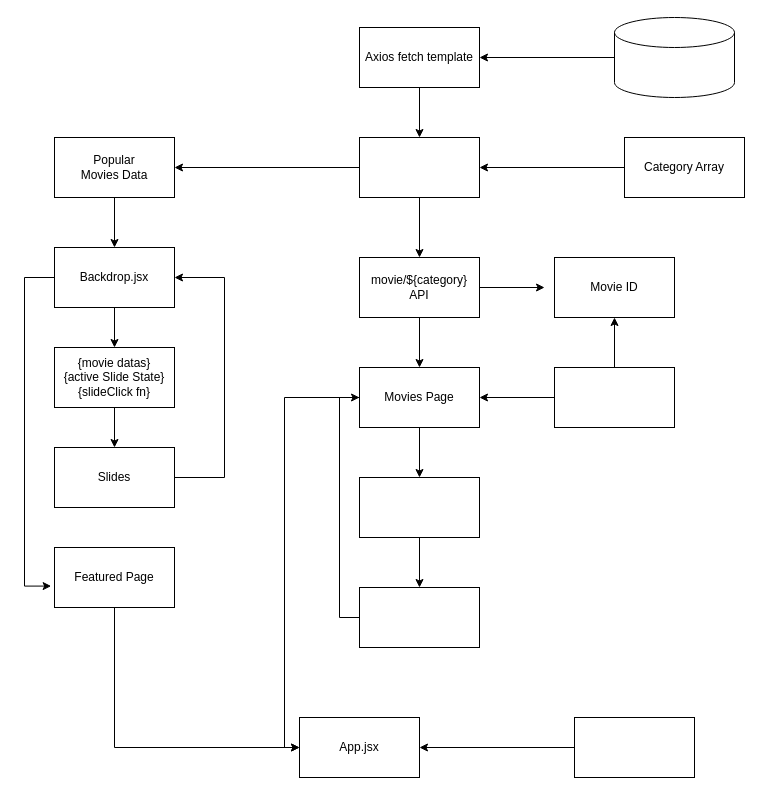
Some shapes in this 762 by 795 pixel diagram are drawn without their labels. Each missing label, with the centre of its shape:
"Cards" goes at point (419, 617).
"Data.js" goes at point (419, 167).
"Genres API" goes at point (614, 397).
"NavBar" goes at point (634, 747).
"TMDB API" goes at point (674, 57).
"{...movies} {genres[i]}" goes at point (419, 507).
